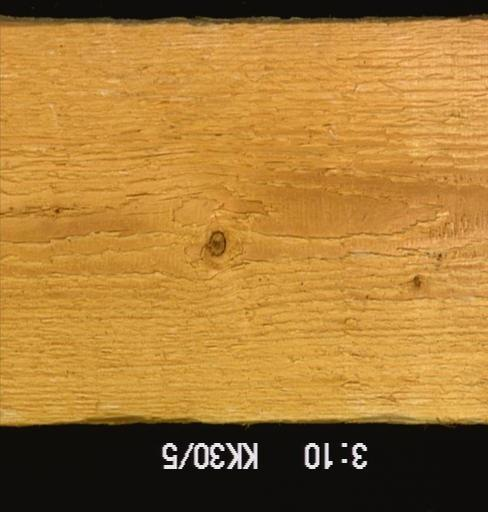dry_knot: (205, 227, 228, 260)
small_knot: (408, 274, 425, 293)
wave: (61, 412, 219, 424), (366, 409, 477, 424)
